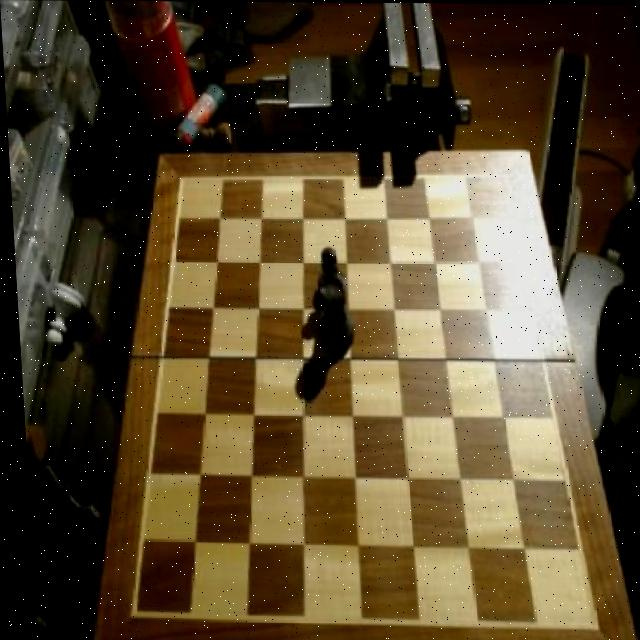black-knight: (310, 248, 342, 301)
black-queen: (305, 279, 353, 358)
